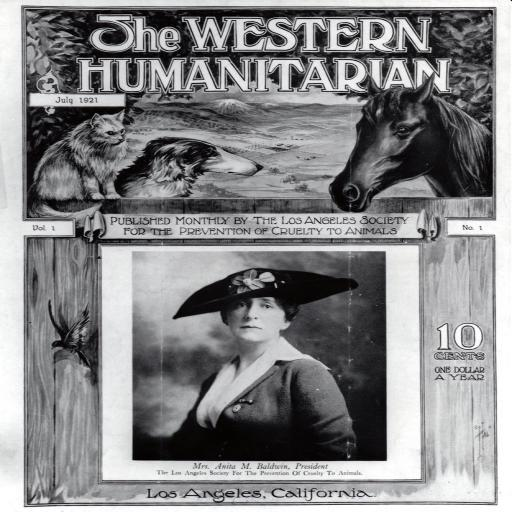horse: (327, 71, 493, 213)
